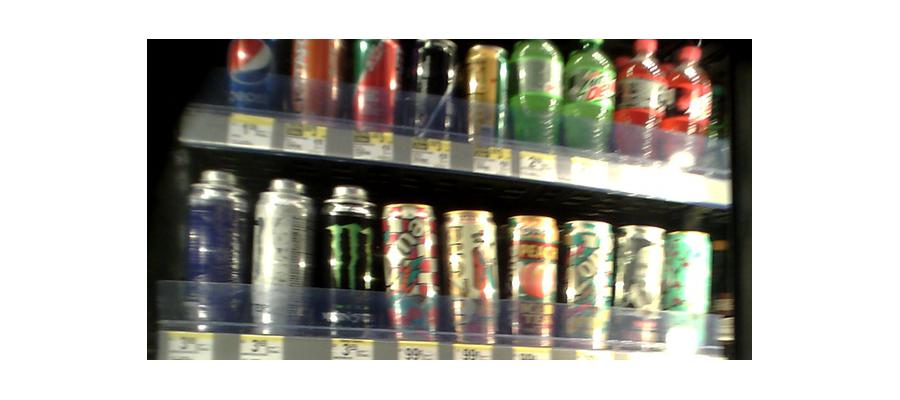bottle: (184, 170, 246, 333), (251, 180, 313, 338), (318, 187, 377, 342), (381, 201, 439, 346), (442, 210, 499, 349), (504, 212, 557, 345), (561, 218, 609, 348), (617, 221, 664, 347), (287, 32, 349, 125), (512, 40, 563, 152), (618, 41, 664, 162), (408, 32, 458, 142), (567, 35, 611, 156), (463, 37, 509, 146), (666, 228, 708, 347), (670, 47, 707, 171), (350, 38, 396, 136), (224, 34, 270, 113)
